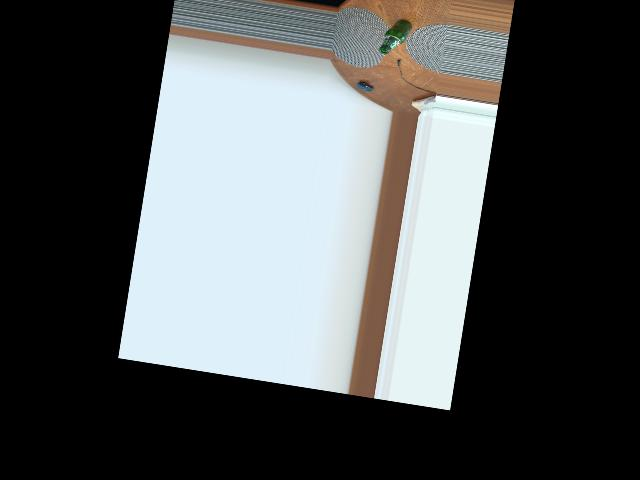beer: (378, 16, 414, 57)
